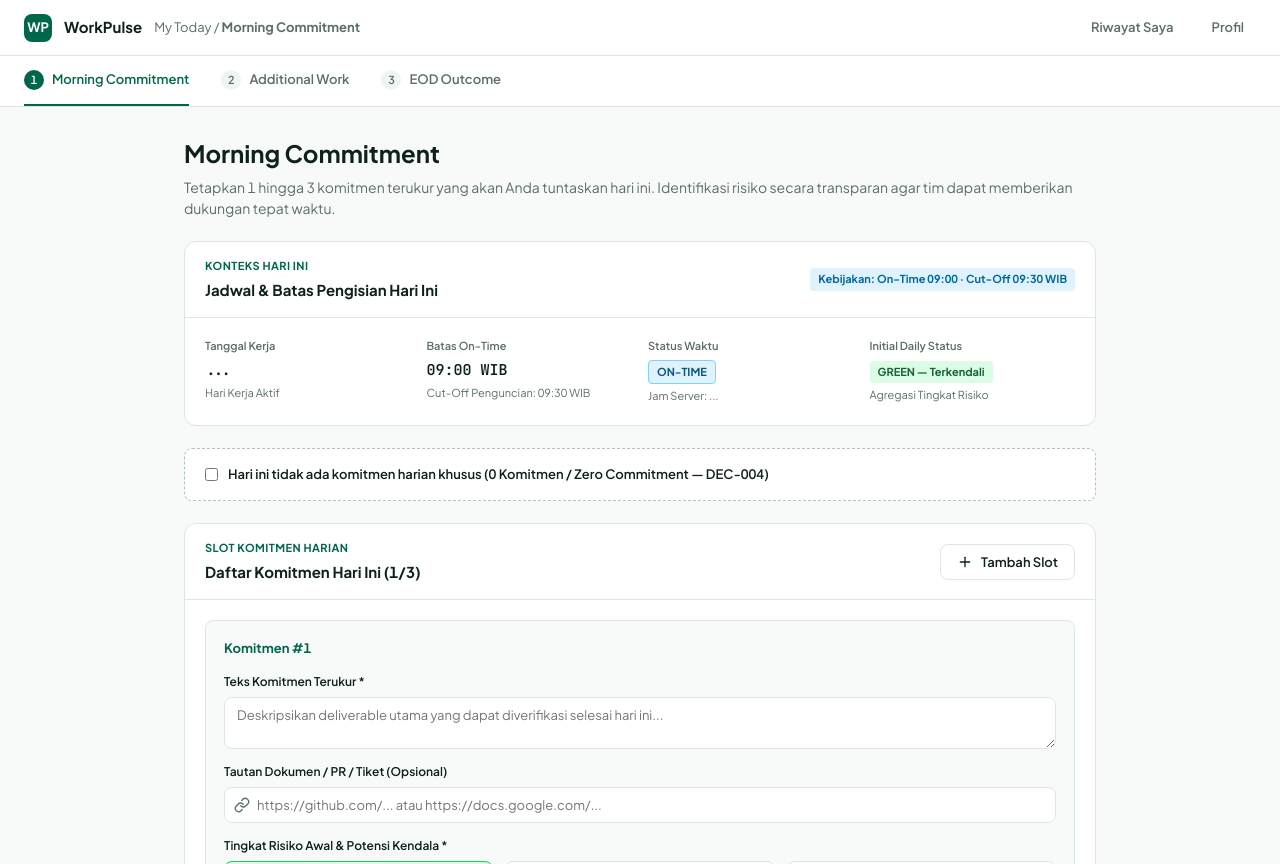
MorningCommitmentView.vue (WP-EP05-TK006 / Prototipe 02) › allows adding commitment slots up to 3 (DEC-004)
Step 1. Click the button "Tambah Slot" → (1008, 562), box left=940, top=544, right=1075, bottom=580
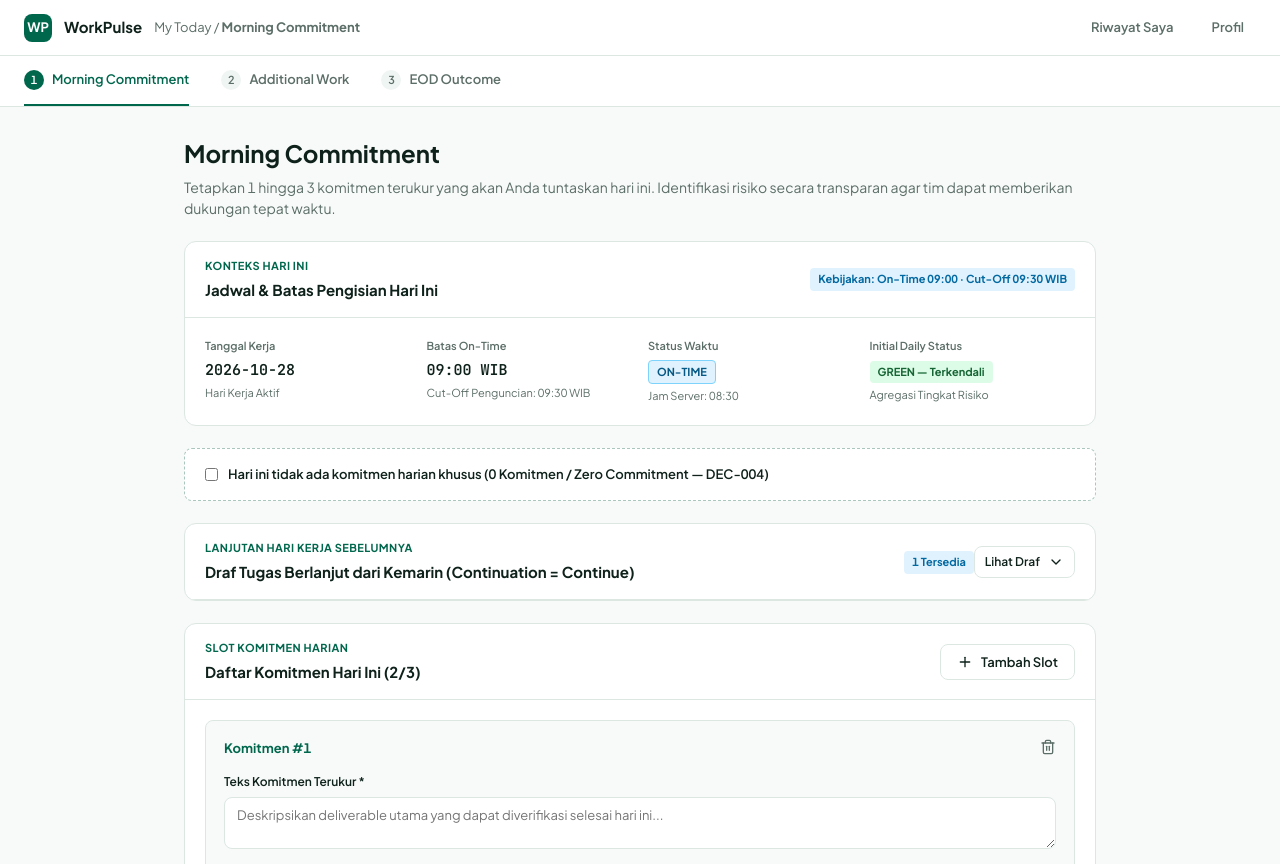
Result: the text "Daftar Komitmen Hari Ini (2/3)" is shown at left=205, top=660, right=421, bottom=683
